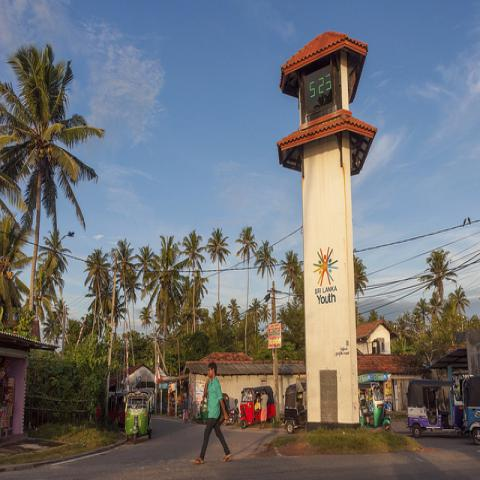car: (409, 381, 466, 437), (240, 386, 276, 429), (125, 389, 153, 444), (281, 383, 307, 434), (462, 375, 479, 444), (196, 393, 230, 425)
